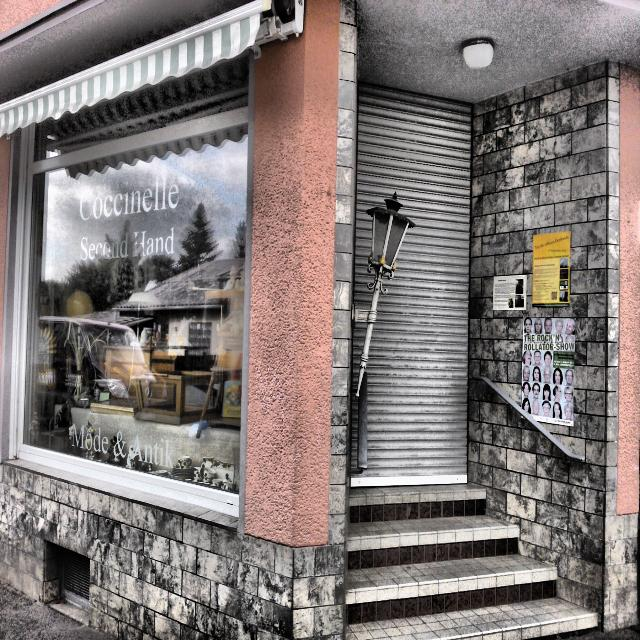escada: (348, 488, 598, 640)
